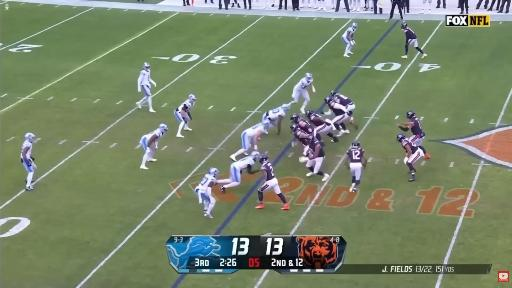Helmet: (259, 154, 269, 164), (406, 110, 416, 119), (25, 133, 35, 142), (251, 151, 260, 160), (397, 134, 406, 142), (291, 114, 299, 123), (209, 168, 218, 176), (262, 119, 270, 128), (307, 135, 314, 145), (324, 96, 332, 104), (307, 110, 314, 119), (281, 104, 290, 111), (351, 22, 358, 30), (305, 73, 313, 80), (159, 124, 167, 131), (143, 63, 150, 70), (291, 124, 298, 131), (188, 95, 196, 101), (352, 142, 360, 147), (401, 22, 407, 28)
Jersey: (195, 174, 216, 191), (232, 156, 254, 170), (309, 138, 325, 157), (244, 123, 267, 136), (328, 99, 345, 115), (411, 118, 425, 137), (293, 129, 309, 145), (266, 107, 285, 120), (262, 162, 275, 181), (347, 147, 363, 162), (335, 94, 353, 107), (146, 129, 166, 140), (295, 78, 313, 90), (298, 119, 313, 133), (21, 140, 32, 159), (402, 140, 418, 153), (309, 114, 325, 126), (138, 70, 150, 86), (177, 100, 194, 111), (403, 27, 417, 39), (343, 27, 354, 39)
Player: (256, 154, 289, 210), (218, 151, 260, 193), (230, 122, 269, 162), (399, 111, 430, 158), (397, 134, 423, 181), (140, 124, 167, 169), (195, 168, 218, 218), (291, 114, 324, 146), (325, 97, 352, 136), (306, 136, 329, 181), (307, 110, 338, 142), (136, 63, 156, 112), (347, 142, 366, 192), (292, 73, 315, 113), (401, 22, 426, 58), (175, 95, 196, 137), (21, 133, 36, 190), (263, 104, 290, 134), (291, 124, 310, 156), (342, 23, 357, 57), (332, 91, 355, 111)
